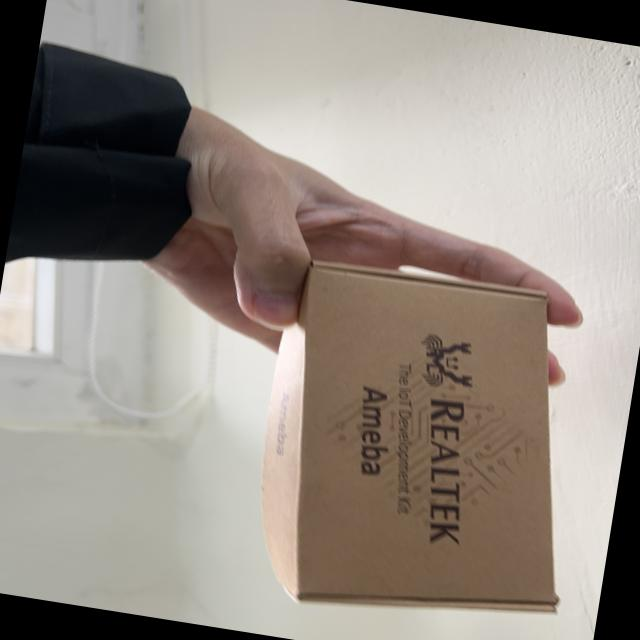box: (201, 221, 640, 640)
